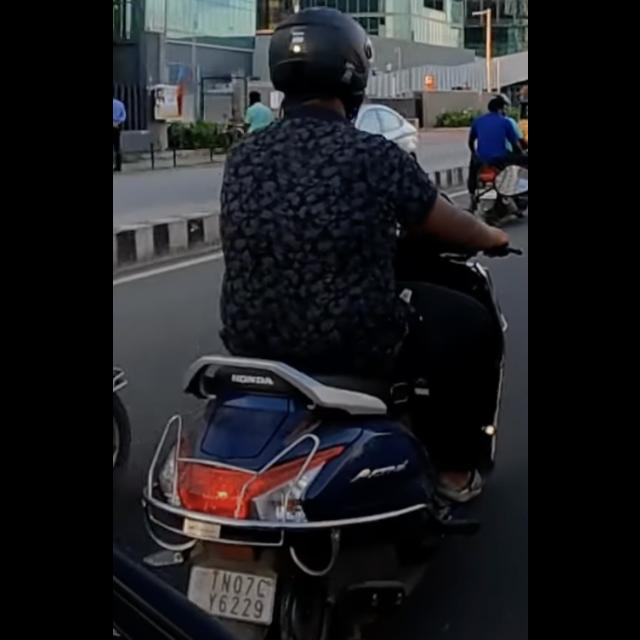with helmet: (268, 7, 370, 97)
